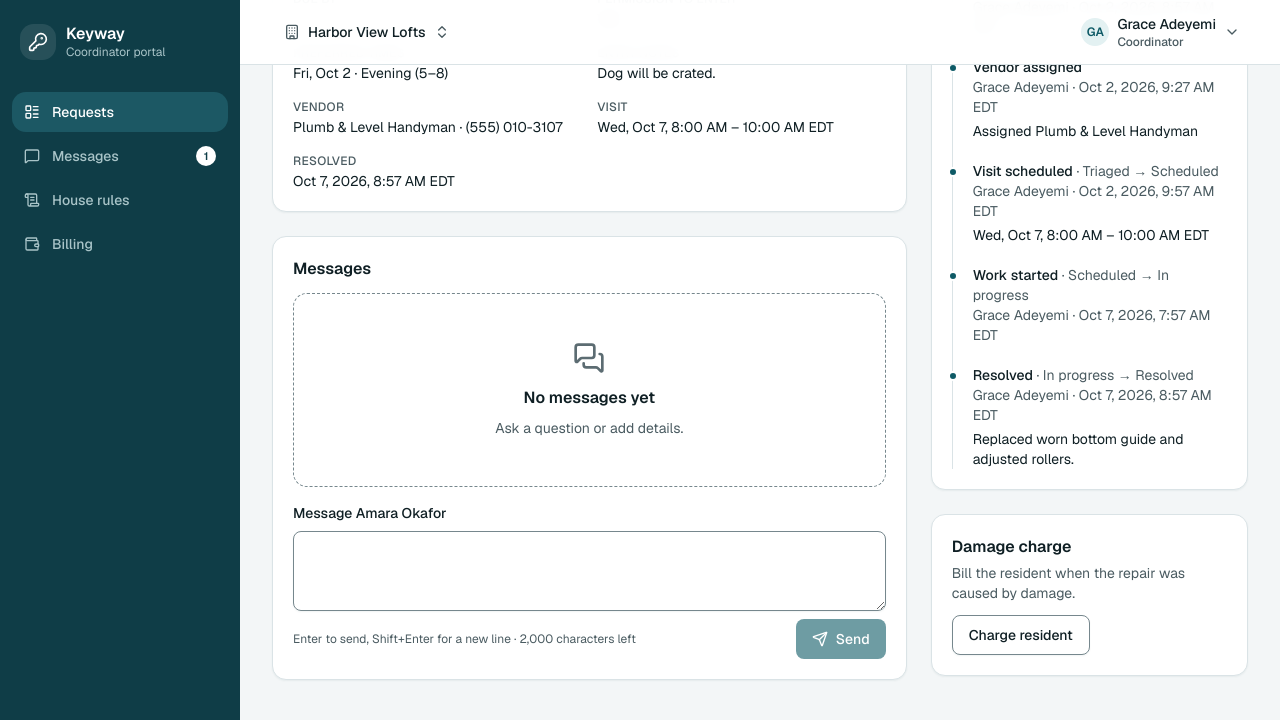
Scenario: DamageChargeCard › lets a coordinator charge a resolved request, then shows the charge
(page scrolled)
Click the button "Charge resident". click: coordinates (1021, 635)
box: [952,615,1090,655]
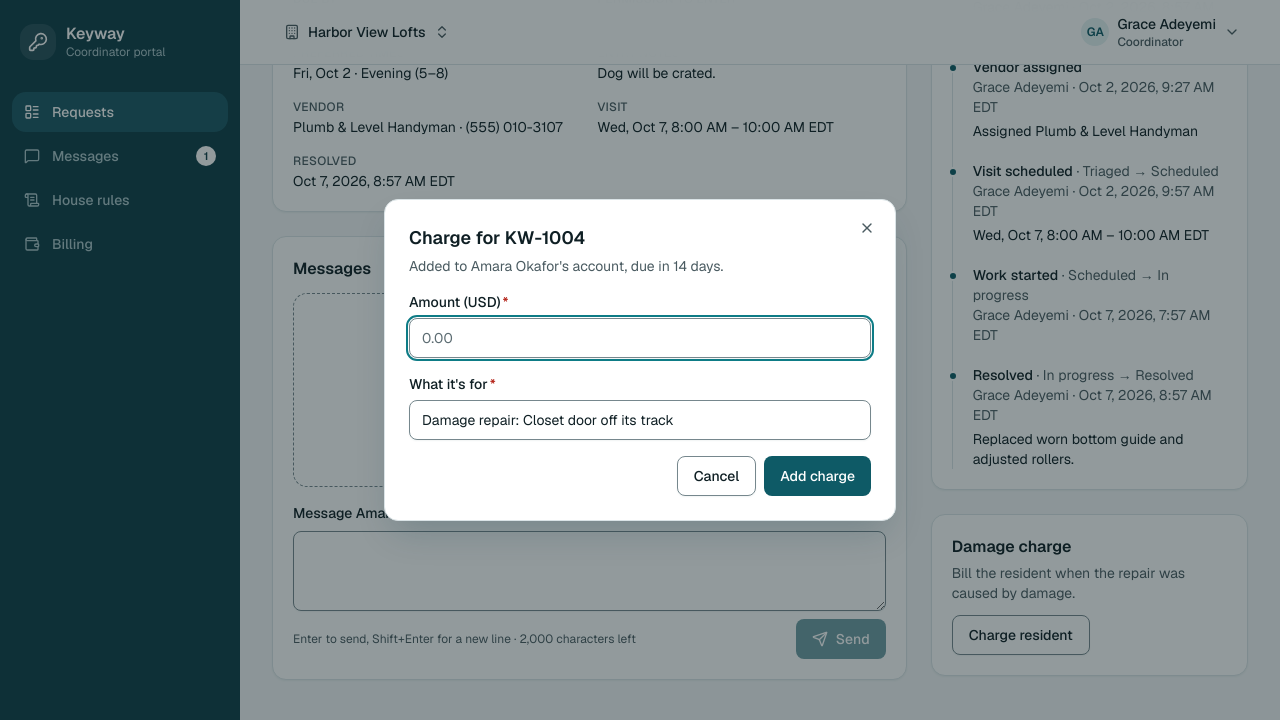
Check: the dialog "Charge for KW-1004" shows "Added to Amara Okafor's account", box [409,257,723,275]
Check: the field labelled "What it's for*" holds "Damage repair: Closet door off its track", box [409,400,871,440]
Type "$1,250.5" into the field labelled "Amount (USD)*". click: coordinates (640, 338)
box: [409,318,871,358]
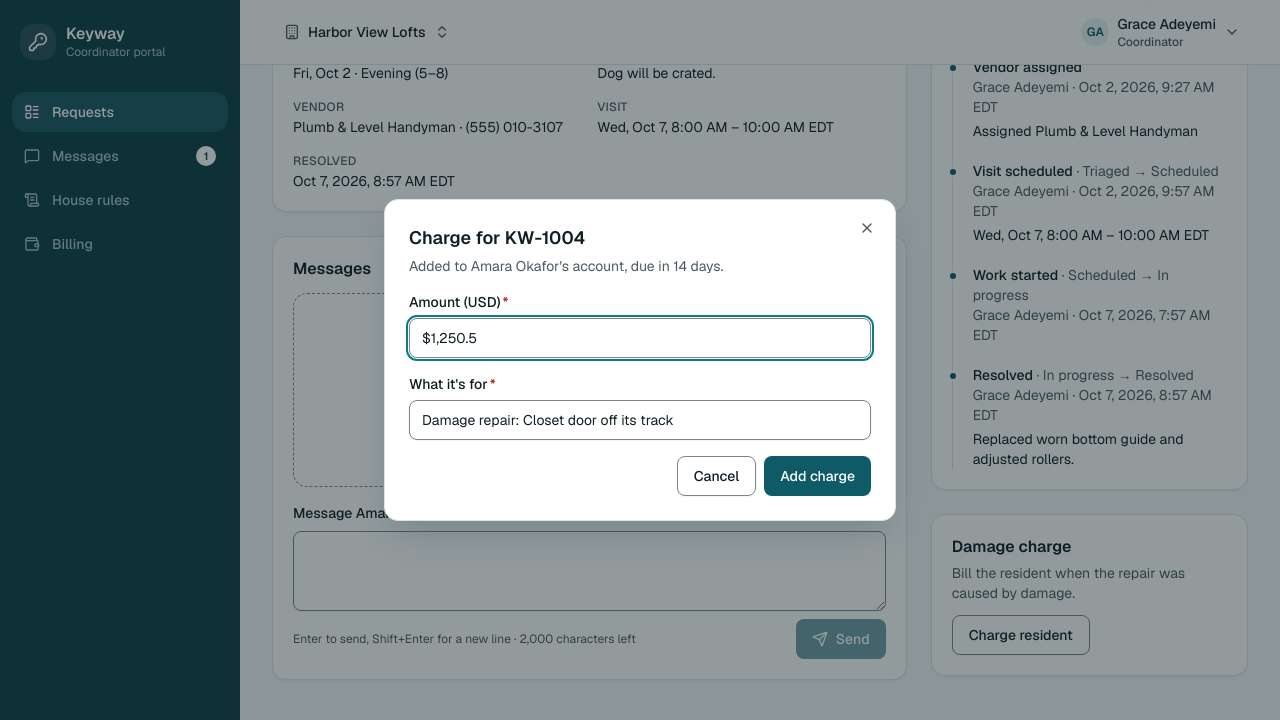
Click the button "Add charge". click: coordinates (818, 476)
box: [764,456,871,496]
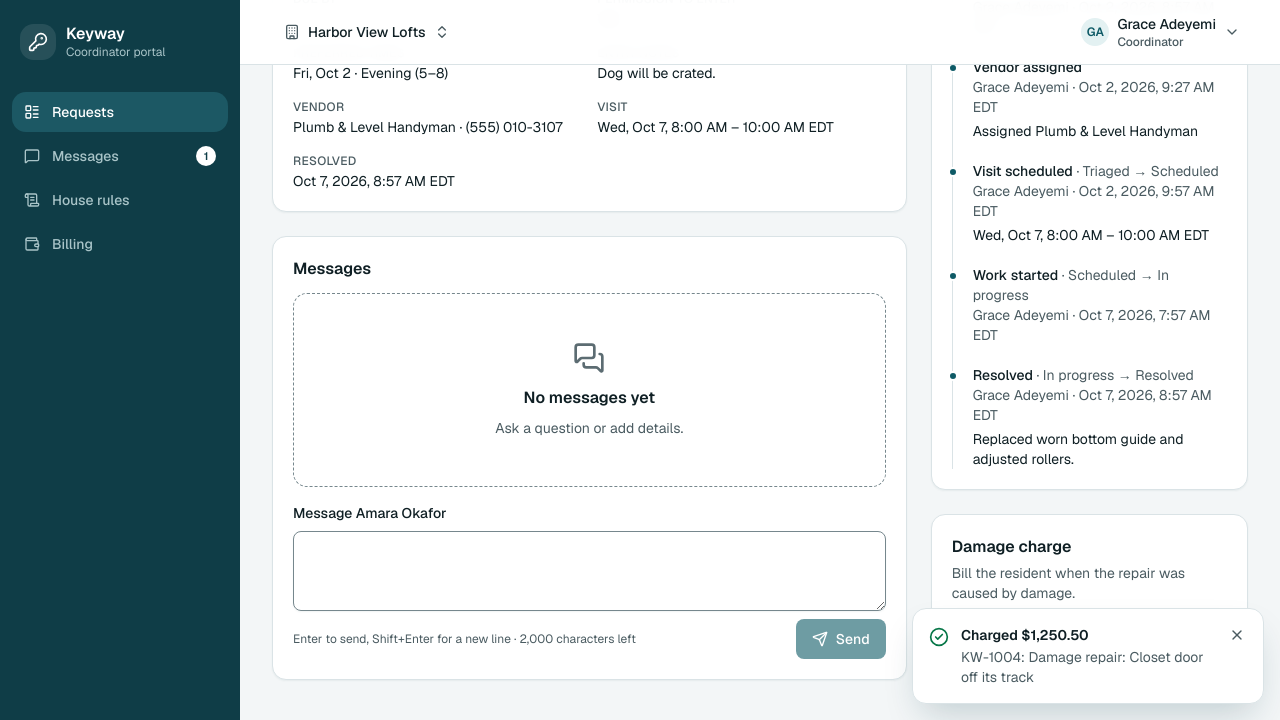
Check: the text "Charged $1,250.50" is shown, box [961,626,1089,644]
Check: the text "Damage repair: Closet door off its track: $1,250.50" is shown, box [952,615,1227,655]
Check: the text "Due" is shown, box [952,659,1010,681]
